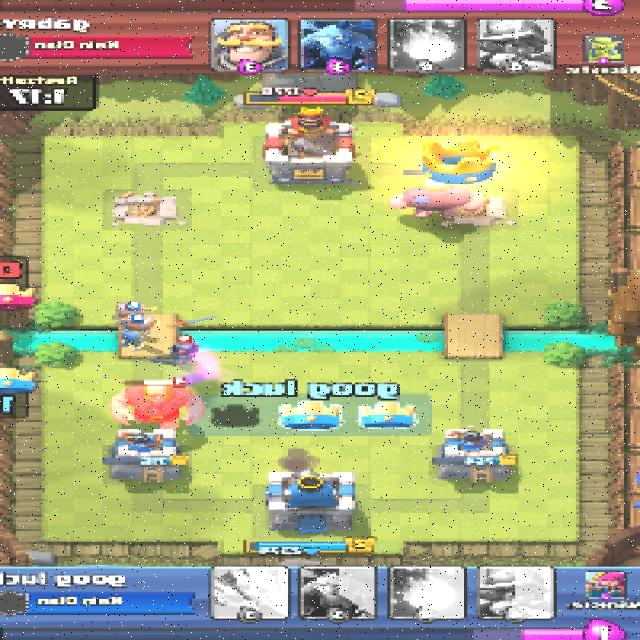Enemy-Giant: (110, 383, 206, 430)
Enemy-MiniPEKKA: (156, 334, 198, 365)
Player-Giant: (384, 178, 489, 219)
Player-Wallbreaker: (119, 315, 158, 346), (114, 301, 146, 332)
